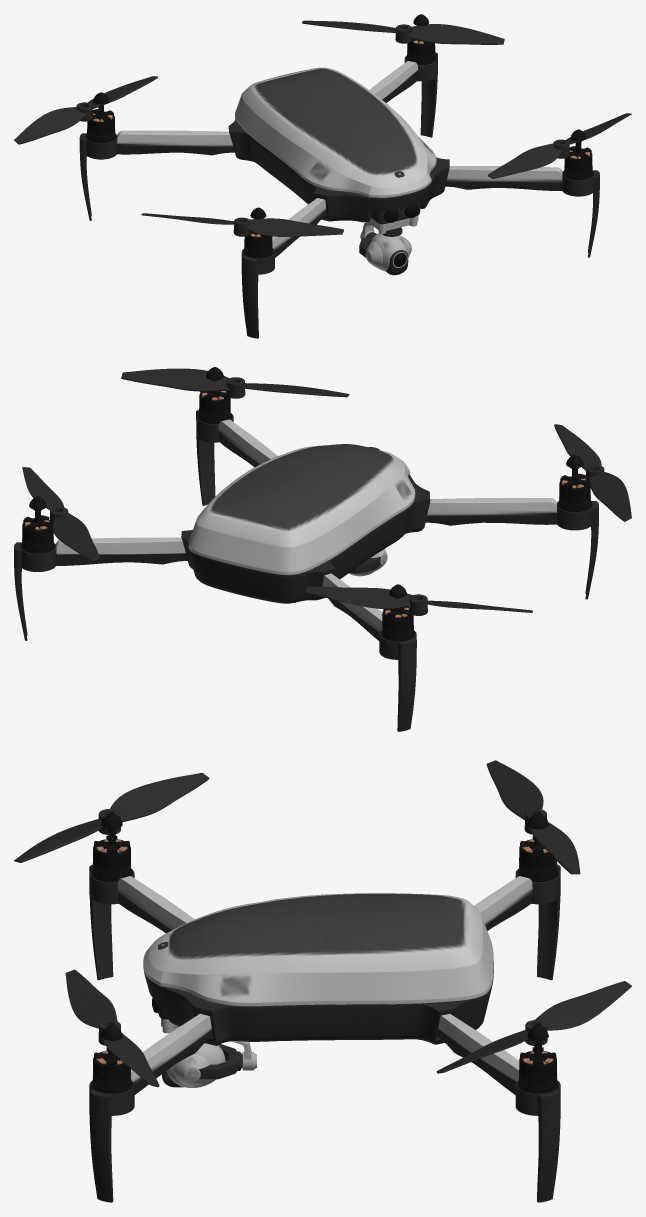
Rendered from drone_all7.glb.
3 views of the same model, one above another, from view 1: azimuth 30°, elevation 25°; view 2: azimuth 150°, elevation 25°; view 3: azimuth 270°, elevation 25° (orthographic). The views are drawn at different scales.
Parts seen in each view (by area): view 1: Drone_Body, Propeller_3, Propeller_2, Propeller_1, Propeller_4; view 2: Drone_Body, Propeller_4, Propeller_2, Propeller_1, Propeller_3; view 3: Drone_Body, Propeller_1, Propeller_2, Propeller_3, Propeller_4.
Boxes of the visible parts, box(x1,y1,x2,y2) form: Drone_Body: box(79, 14, 599, 338); Propeller_3: box(302, 20, 504, 44); Propeller_2: box(14, 76, 157, 144); Propeller_1: box(141, 213, 343, 236); Propeller_4: box(488, 113, 631, 178); Drone_Body: box(14, 367, 598, 731); Propeller_4: box(121, 368, 349, 398); Propeller_2: box(305, 586, 532, 615); Propeller_1: box(554, 424, 631, 521); Propeller_3: box(22, 467, 99, 561); Drone_Body: box(89, 813, 560, 1202); Propeller_1: box(14, 773, 209, 862); Propeller_2: box(486, 760, 580, 874); Propeller_3: box(436, 981, 631, 1073); Propeller_4: box(65, 969, 159, 1087).
Size of the model in its own units: 0.2617 by 0.0665 by 0.2108.
77 materials, 77 textured.
